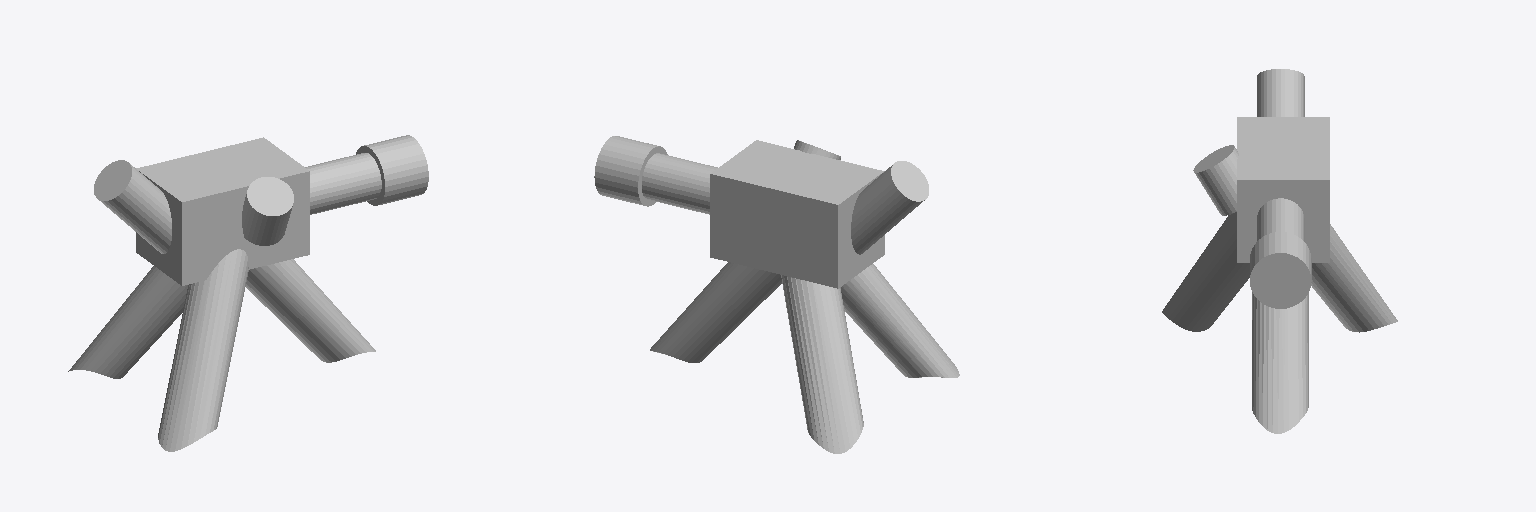
File: flameThrowerTower.obj
The picture shows the model from 3 angles: view 1: azimuth 30°, elevation 25°; view 2: azimuth 150°, elevation 25°; view 3: azimuth 270°, elevation 25°; orthographic projection.
Parts seen in each view (by area): view 1: Cube.001, Cylinder.002, Cylinder, Cylinder.001, Cylinder.005, Cylinder.003, Cylinder.004, Cylinder.006; view 2: Cube.001, Cylinder.001, Cylinder.002, Cylinder, Cylinder.005, Cylinder.003, Cylinder.004; view 3: Cube.001, Cylinder, Cylinder.002, Cylinder.001, Cylinder.004, Cylinder.005, Cylinder.006, Cylinder.003.
Part boxes in pixels (x1,y1,x2,y2): Cube.001: (136, 137, 309, 285); Cylinder.002: (158, 249, 248, 451); Cylinder: (246, 259, 375, 362); Cylinder.001: (68, 266, 187, 378); Cylinder.005: (94, 160, 171, 253); Cylinder.003: (305, 153, 381, 214); Cylinder.004: (356, 135, 428, 205); Cylinder.006: (242, 177, 293, 245); Cube.001: (710, 140, 884, 288); Cylinder.001: (781, 275, 863, 453); Cylinder.002: (841, 264, 959, 377); Cylinder: (650, 262, 781, 362); Cylinder.005: (851, 161, 928, 254); Cylinder.003: (642, 153, 717, 214); Cylinder.004: (594, 136, 667, 206); Cube.001: (1237, 117, 1329, 262); Cylinder: (1252, 292, 1308, 433); Cylinder.002: (1162, 212, 1249, 331); Cylinder.001: (1311, 224, 1397, 332); Cylinder.004: (1250, 232, 1311, 308); Cylinder.005: (1257, 69, 1304, 116); Cylinder.006: (1193, 145, 1238, 215); Cylinder.003: (1257, 198, 1304, 241).
Size of the model in its own units: 2.98 by 2.26 by 1.93.